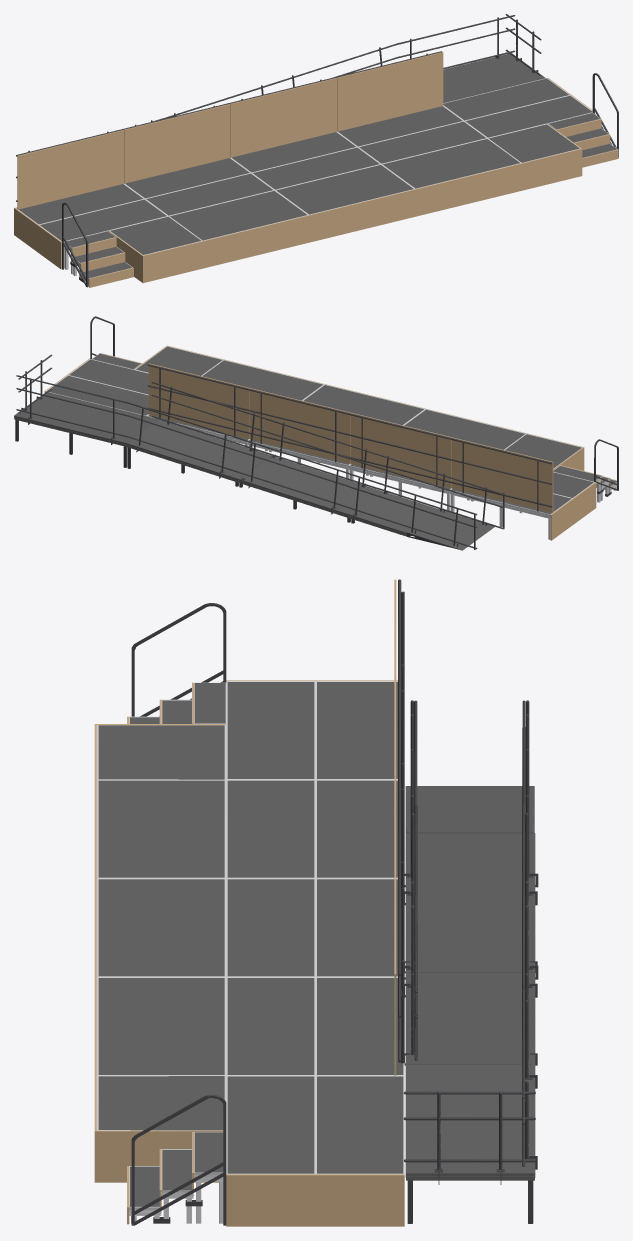
The picture shows the model from 3 angles, top to bottom: view 1: azimuth 30°, elevation 25°; view 2: azimuth 150°, elevation 25°; view 3: azimuth 270°, elevation 25°; orthographic projection. The views are drawn at different scales.
Parts seen in each view (by area): view 1: deck_top, veneer, hardware, deck_edge; view 2: deck_top, veneer, hardware, deck_edge; view 3: deck_top, veneer, hardware, deck_edge.
Boxes of the visible parts, box(x1,y1,x2,y2) form: deck_top: box(17, 53, 617, 278); veneer: box(14, 52, 618, 287); hardware: box(16, 14, 618, 287); deck_edge: box(15, 78, 617, 286); deck_top: box(14, 346, 616, 550); veneer: box(44, 345, 616, 540); hardware: box(15, 316, 618, 550); deck_edge: box(45, 346, 616, 539); deck_top: box(98, 682, 535, 1206); veneer: box(94, 579, 404, 1226); hardware: box(131, 579, 538, 1225); deck_edge: box(96, 681, 404, 1223).
Bounding box in the file's own units: 11.01 × 1.59 × 4.17.
